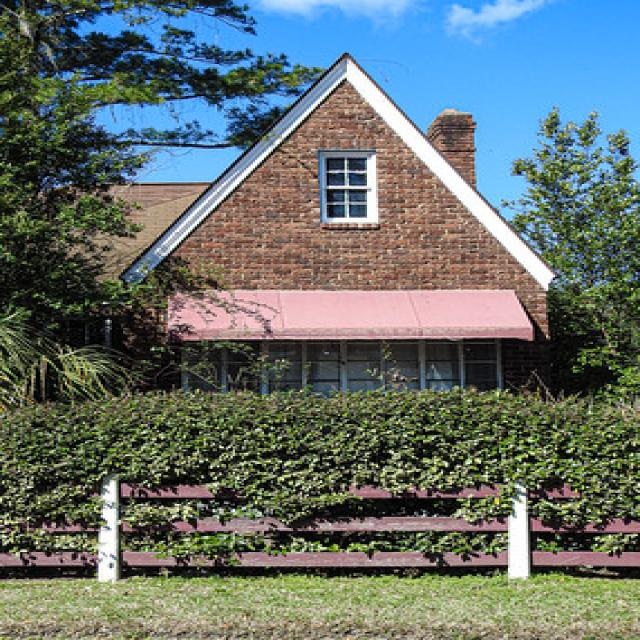Normal_building: (25, 51, 602, 493)
